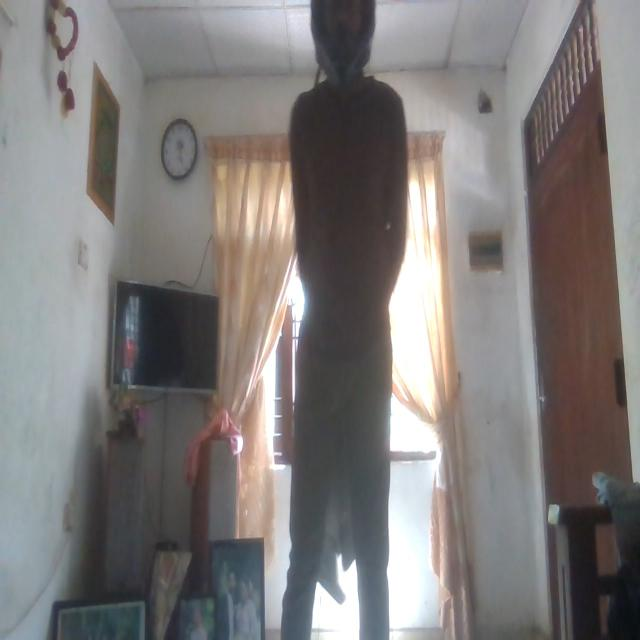Helmet_Wearer: (303, 0, 381, 92)
Person: (282, 0, 402, 640)
